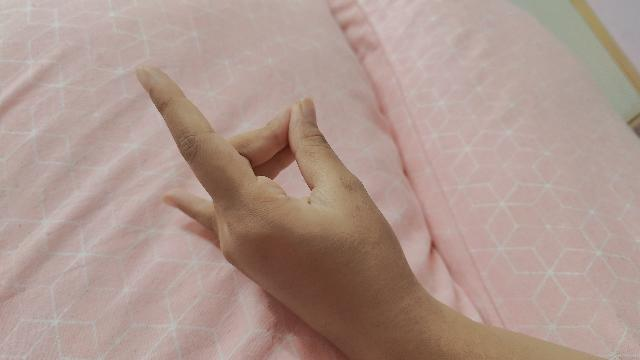sinhamukh: (133, 67, 605, 360)
